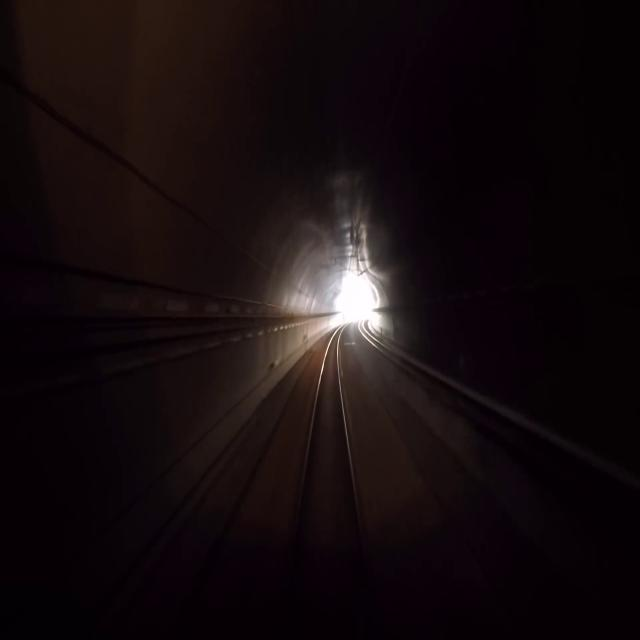rail-track: (374, 341, 640, 510), (293, 329, 376, 639)
